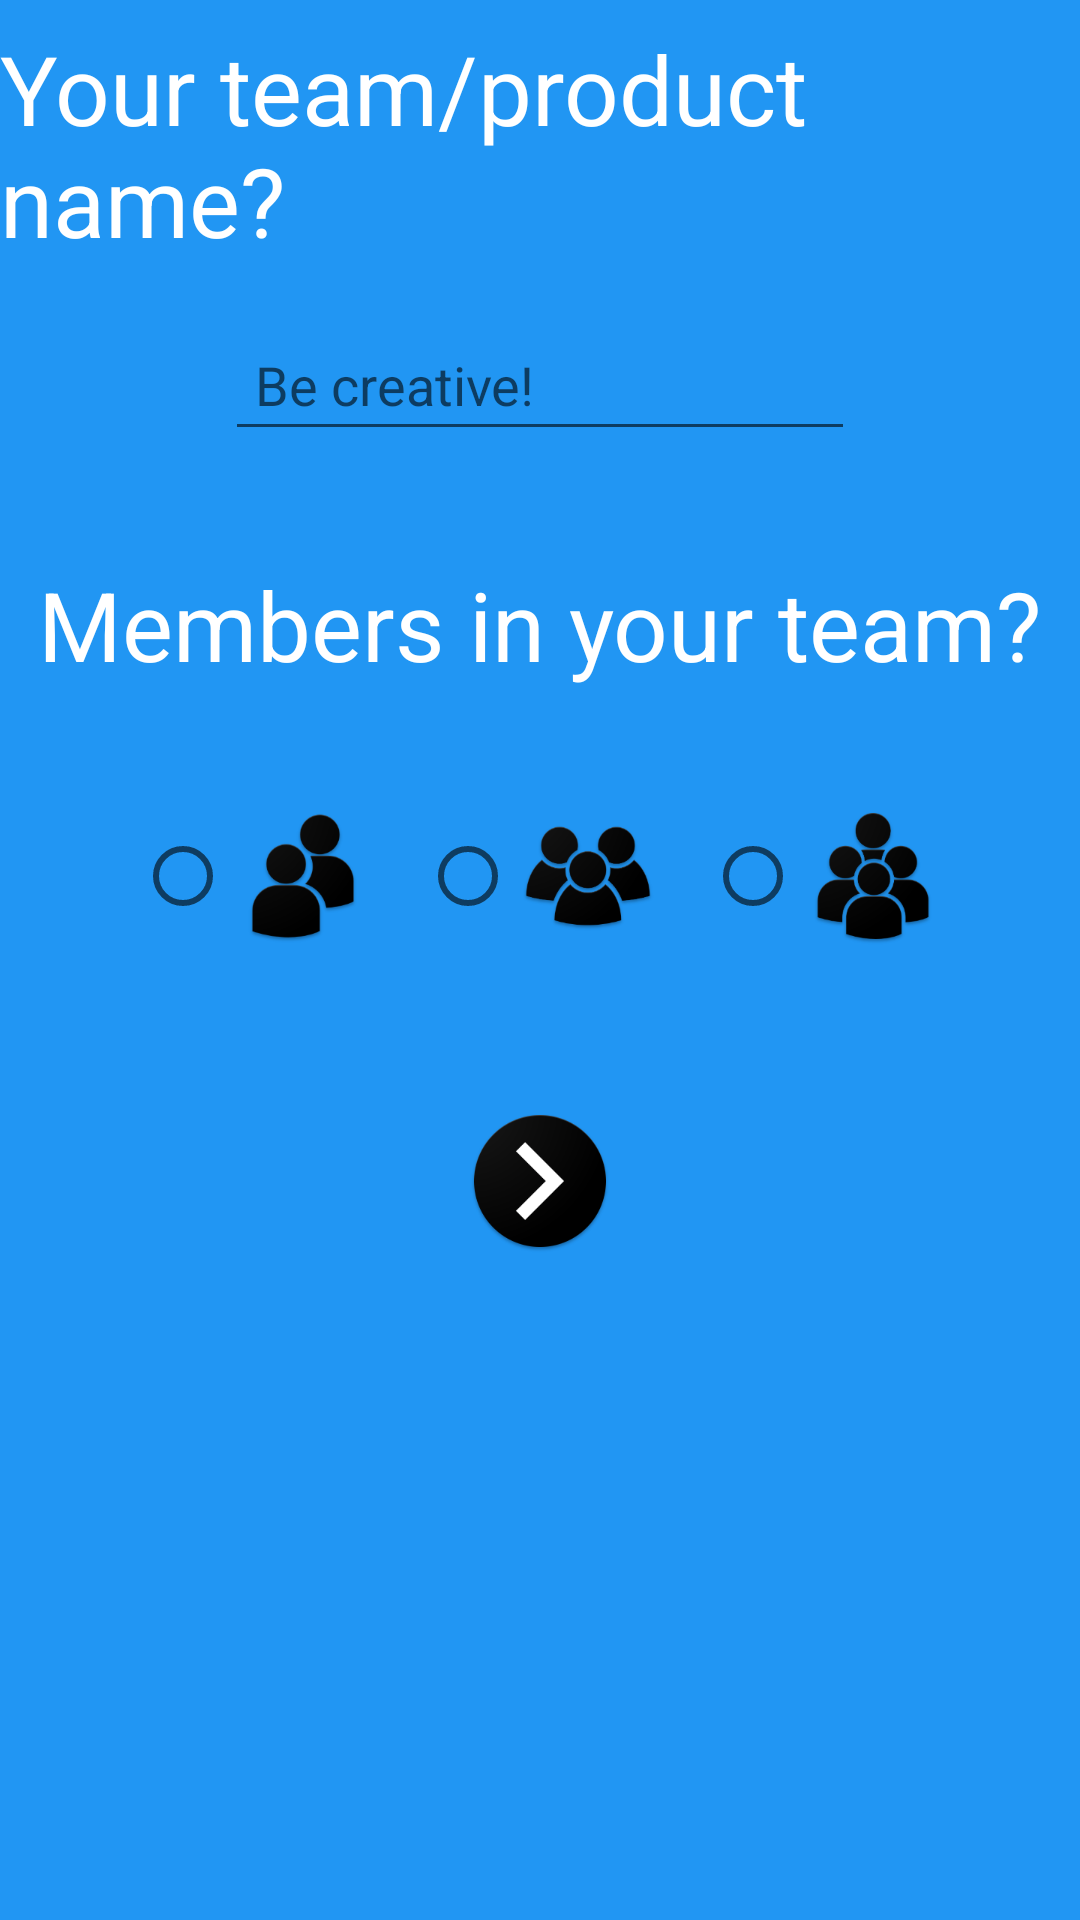

Icon bounding boxes for this 1080px×1920px phone screenshot, format (x1,y1,x2,y2):
next: (473,1115,606,1250)
